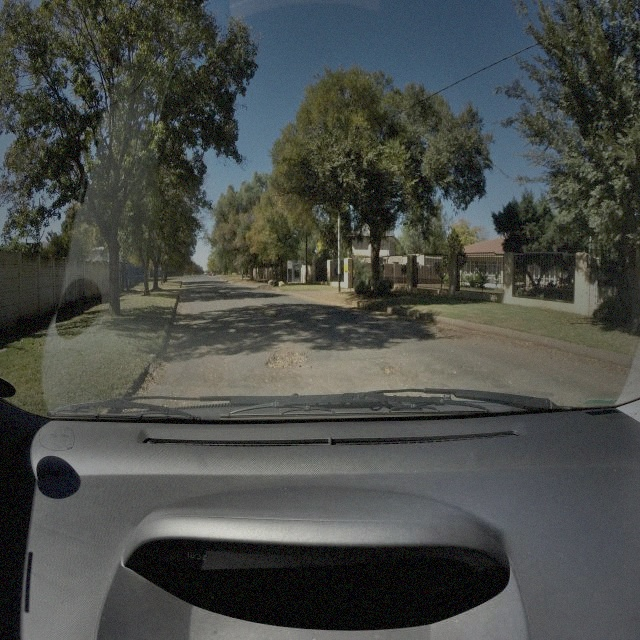pothole: (265, 348, 308, 368), (382, 364, 399, 376), (263, 310, 279, 316)
